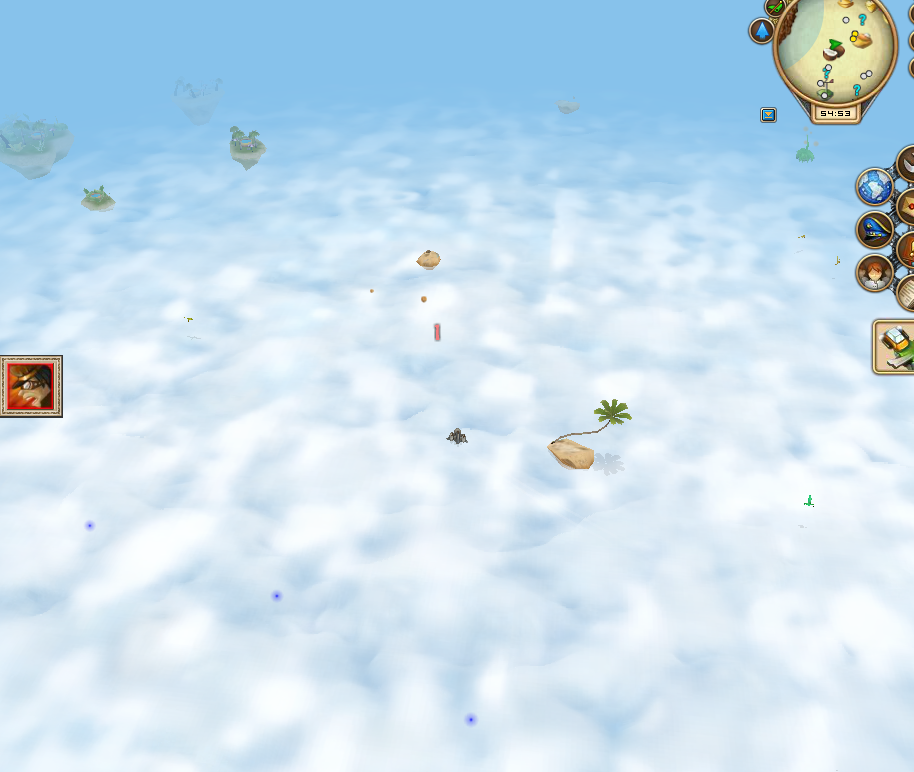coconut: (417, 293, 429, 305), (366, 287, 376, 296)
palm: (540, 393, 630, 472)
